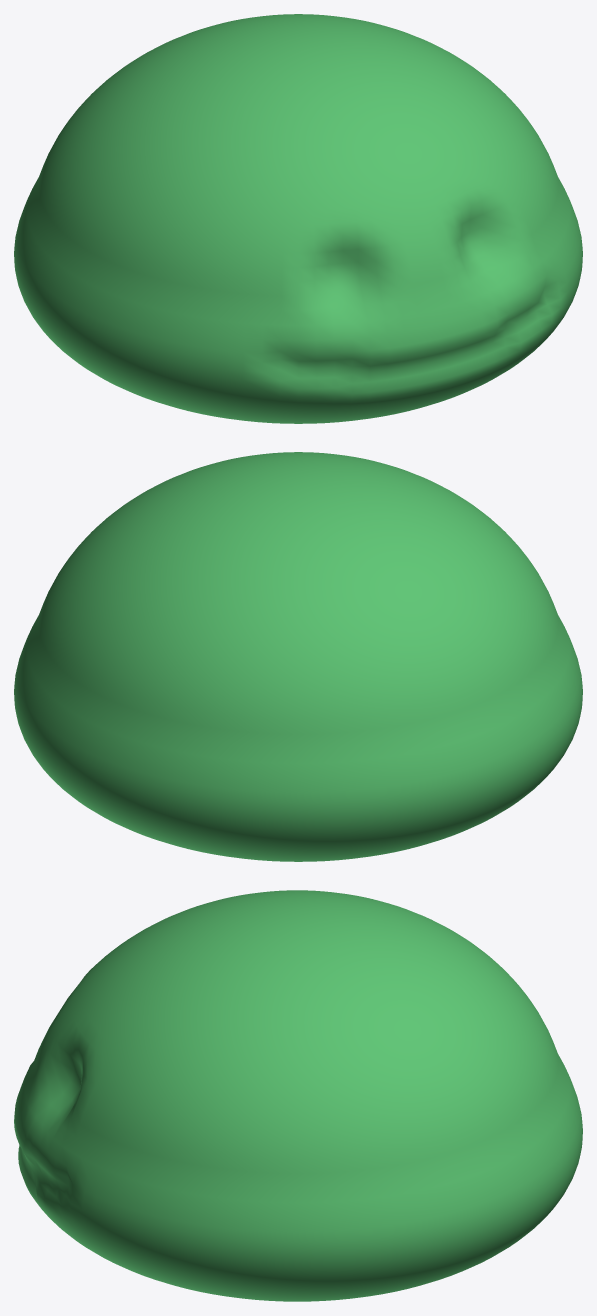
Rendered from slime_tensura.glb.
3 renders of one model, top to bottom at view 1: azimuth 30°, elevation 25°; view 2: azimuth 150°, elevation 25°; view 3: azimuth 270°, elevation 25°, orthographic.
Visible parts, largest first — view 1: slime_body; view 2: slime_body; view 3: slime_body.
Boxes of the visible parts, x1,y1,x2,y2 form: slime_body: [14, 14, 582, 423]; slime_body: [14, 452, 582, 861]; slime_body: [14, 890, 582, 1301].
Bounding box in the file's own units: 1.06 × 0.665 × 1.05.
